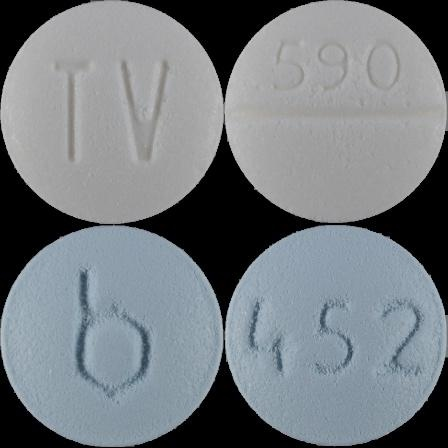0093-2070: (0, 0, 224, 224)
